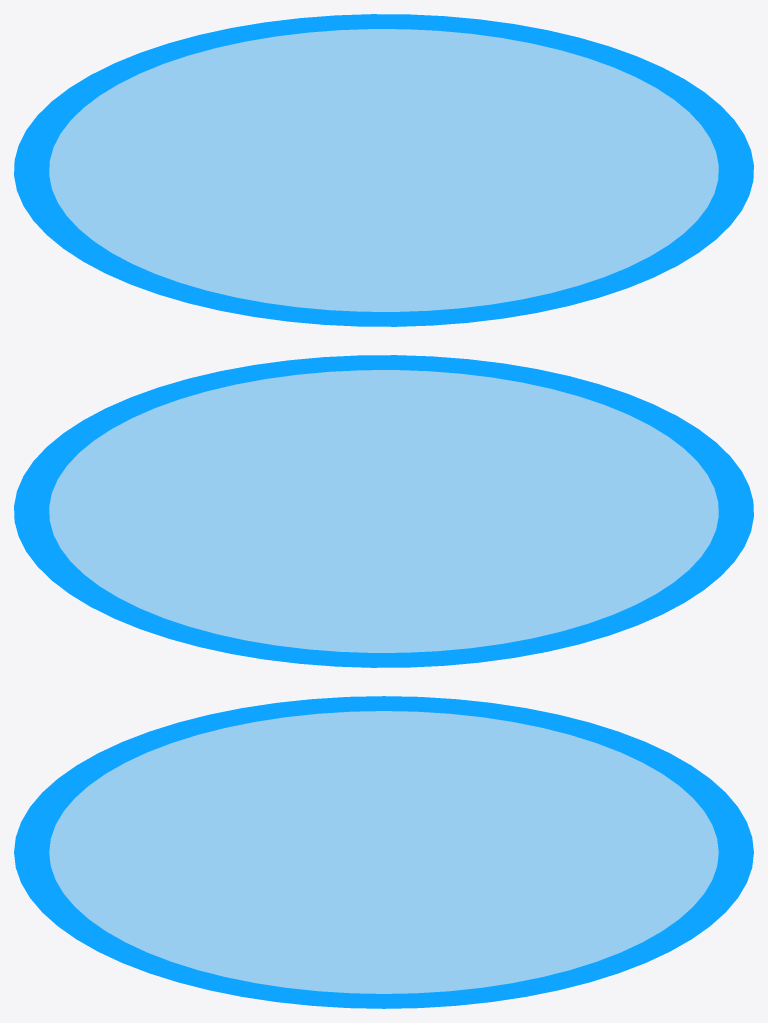
The model's file is SpawnZone.fbx.
3 renders of one model, top to bottom at view 1: azimuth 30°, elevation 25°; view 2: azimuth 150°, elevation 25°; view 3: azimuth 270°, elevation 25°, orthographic.
Visible parts, largest first — view 1: SpawnZone_Blue; view 2: SpawnZone_Blue; view 3: SpawnZone_Blue.
Boxes of the visible parts, left/top/right/bottom form: SpawnZone_Blue: left=14, top=14, right=753, bottom=326; SpawnZone_Blue: left=14, top=355, right=753, bottom=667; SpawnZone_Blue: left=14, top=696, right=753, bottom=1008.
Bounding box in the file's own units: 2.32 × 2.32 × 0.
